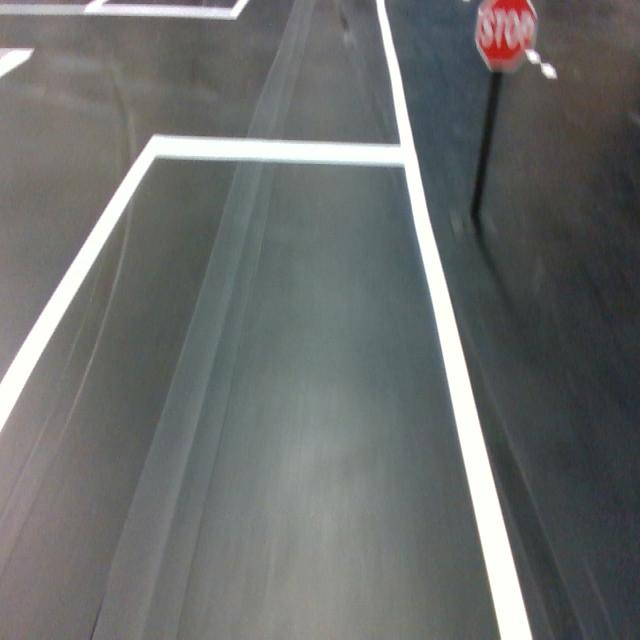stop-sign: (474, 0, 540, 76)
